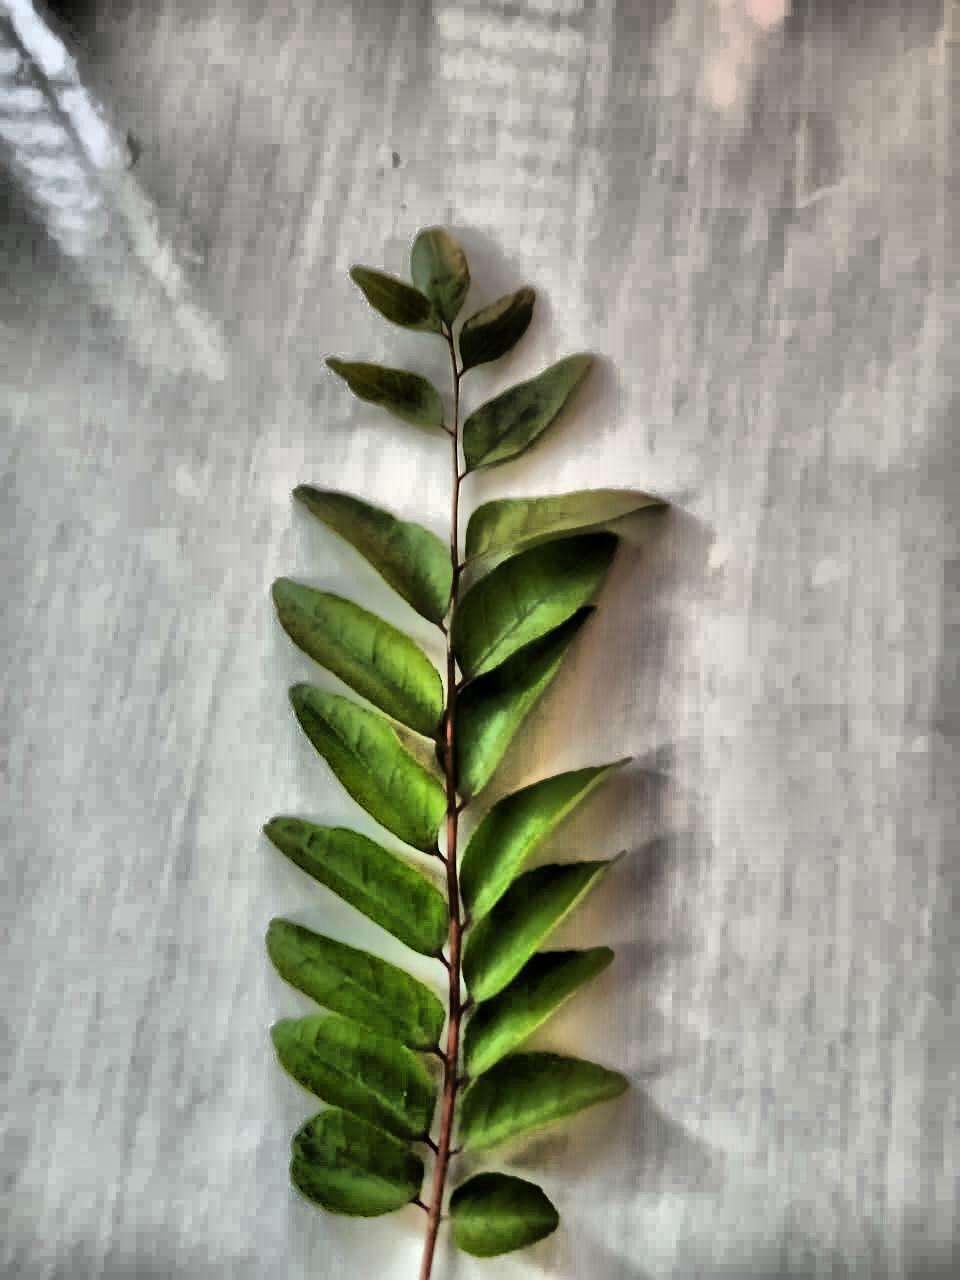daun kari: (265, 229, 636, 1279)
